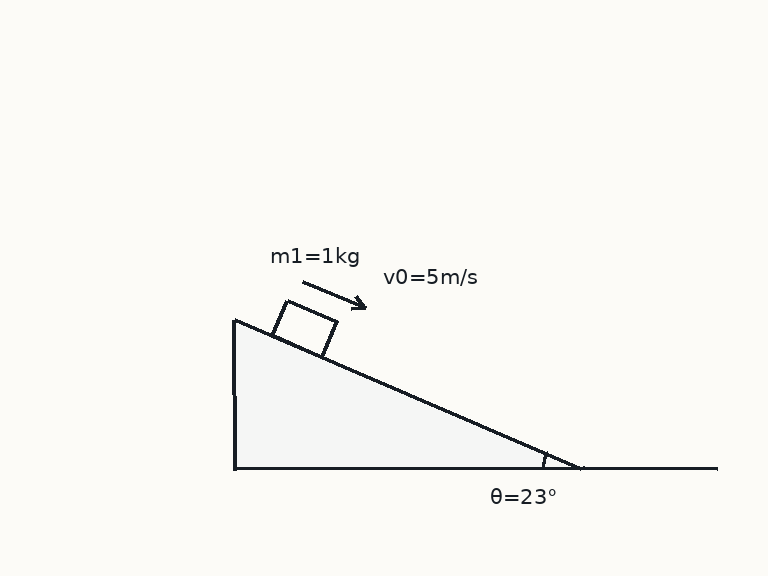block: (270, 298, 338, 359)
ramp: (232, 318, 585, 470)
